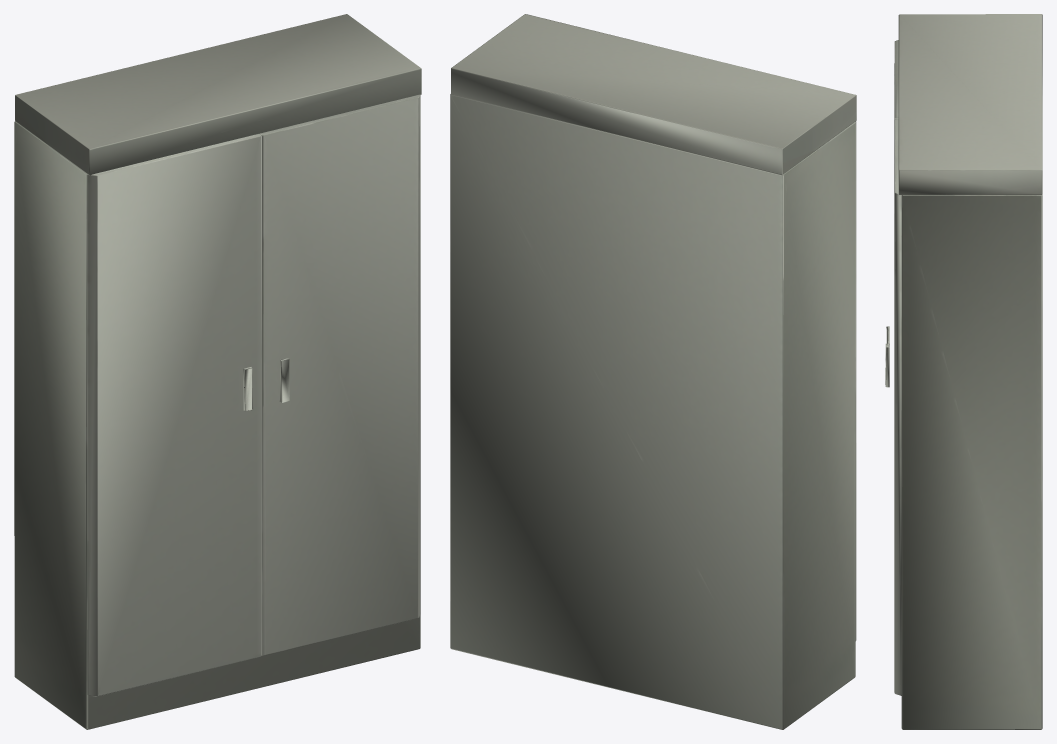
Rendered from wardrobe.fbx.
3 renders of one model, left to right at view 1: azimuth 30°, elevation 25°; view 2: azimuth 150°, elevation 25°; view 3: azimuth 270°, elevation 25°, orthographic. The views are drawn at different scales.
Parts seen in each view (by area): view 1: Mesh_0; view 2: Mesh_0; view 3: Mesh_0.
Boxes of the visible parts, x1,y1,x2,y2 form: Mesh_0: [14, 14, 421, 729]; Mesh_0: [450, 14, 856, 729]; Mesh_0: [885, 14, 1042, 729].
Size of the model in its own units: 57.08 by 95.02 by 24.17.
Materials: 1 (1 with a texture image).
